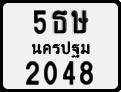letters: (71, 9, 89, 35), (52, 8, 68, 34), (25, 59, 40, 86), (43, 59, 58, 86), (32, 9, 47, 35), (62, 59, 76, 86), (79, 60, 94, 85)
province: (30, 41, 91, 58)
